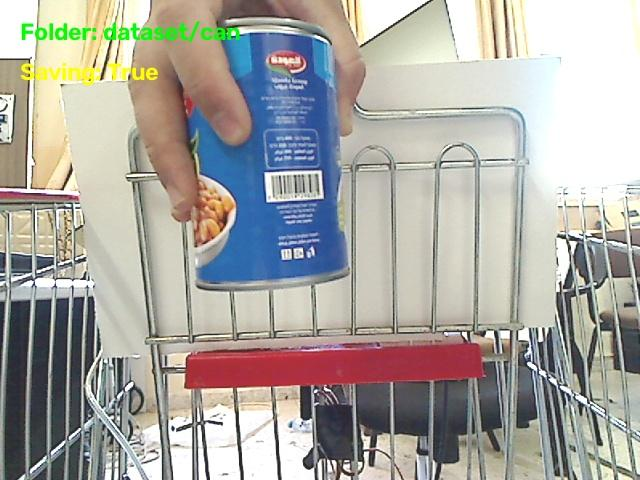can: (186, 17, 348, 290)
